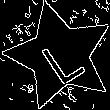L_NW: (32, 26, 87, 85)
